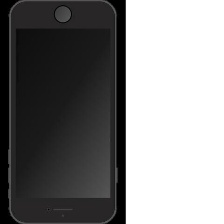phone: (6, 0, 121, 224)
